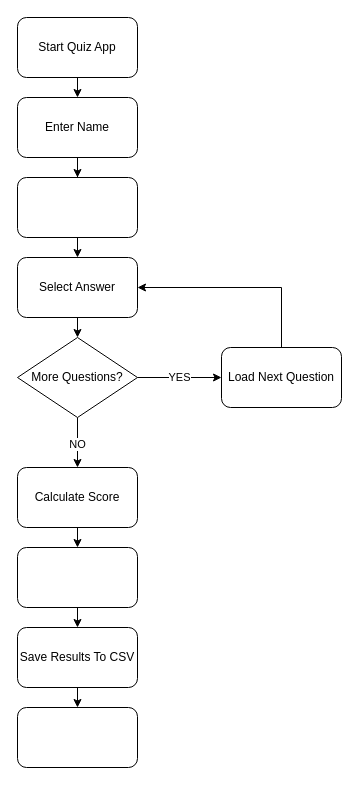
Image size: 359x785. Some labels were removed from this diagram. The shapes that lost their labels are listed below. From the top down, each one's box as (x1, y1, x2, y2) in pixels, then its label:
(16, 176, 138, 238): Load First Question
(16, 546, 138, 608): Display Results
(16, 706, 138, 768): Exit
